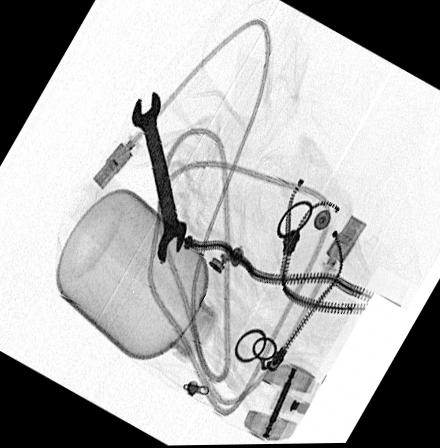Wrench: (130, 87, 188, 264)
